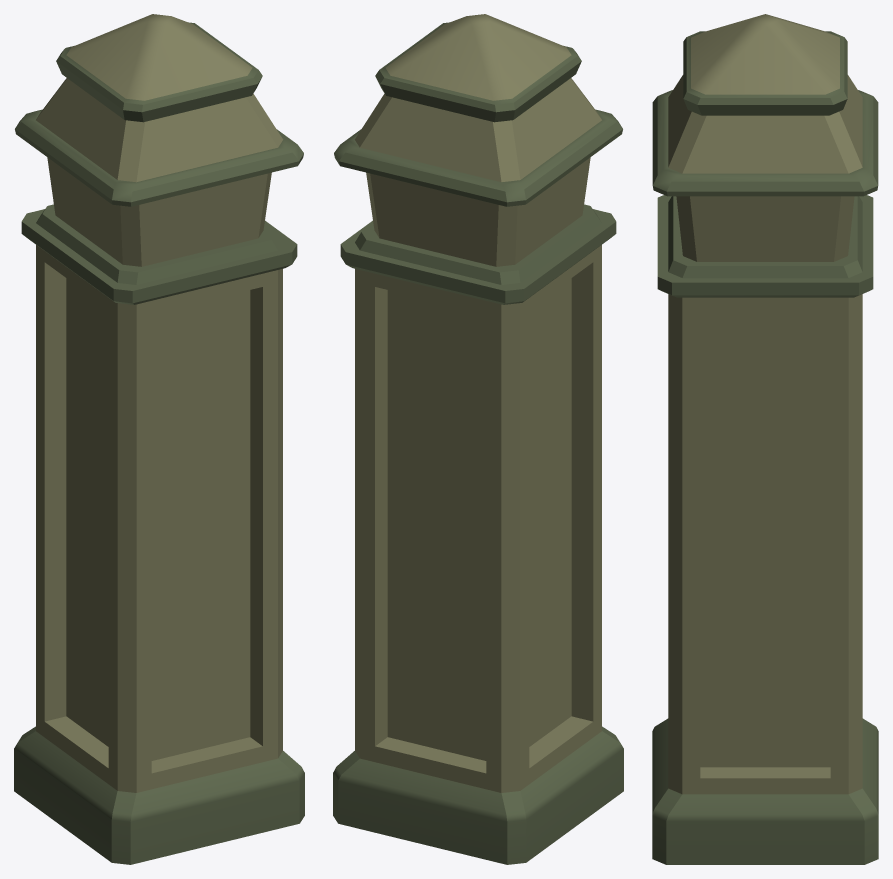
The model's file is pillar004.fbx.
3 views of the same model, side by side, from view 1: azimuth 30°, elevation 25°; view 2: azimuth 150°, elevation 25°; view 3: azimuth 270°, elevation 25° (orthographic).
Visible parts, largest first — view 1: pillar004; view 2: pillar004; view 3: pillar004.
Part boxes in pixels (x1,y1,x2,y2): pillar004: (14,14,304,864); pillar004: (333,14,623,864); pillar004: (652,14,878,864).
Size of the model in its own units: 1.03 by 4 by 1.03.
